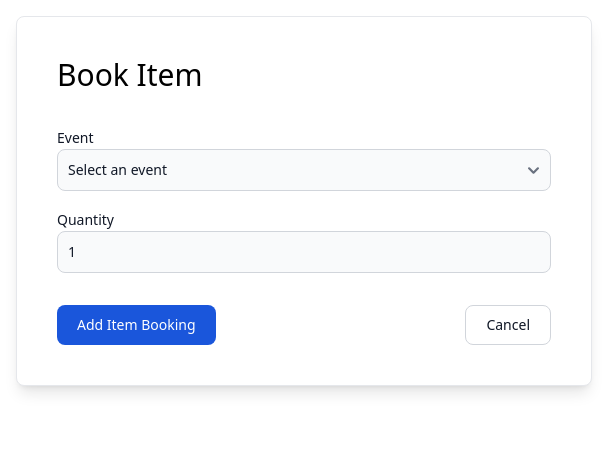
it: NewItemBooking Page › prevents form submission if required fields are empty
Clear the number field labelled "Quantity" at (304, 252), box [57,231,551,273]
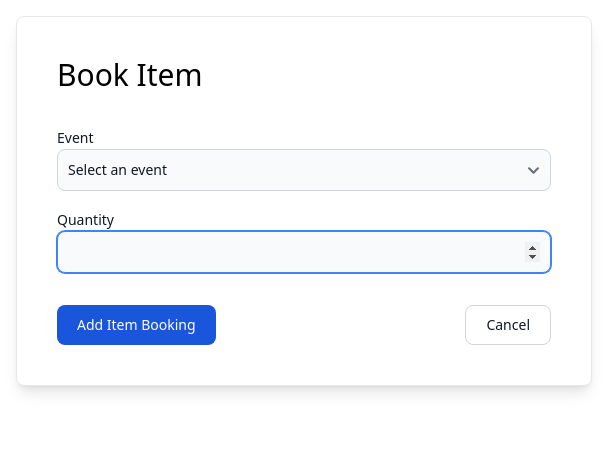
Click the button "Add Item Booking".
click(136, 325)  # box [57,305,216,345]
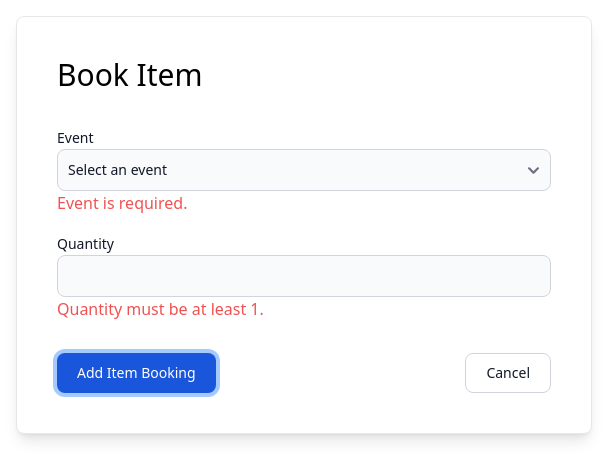
Check: the text "Event is required." is shown, box [57,192,187,214]
Check: the text "Quantity must be at least 1." is shown, box [57,298,264,320]
